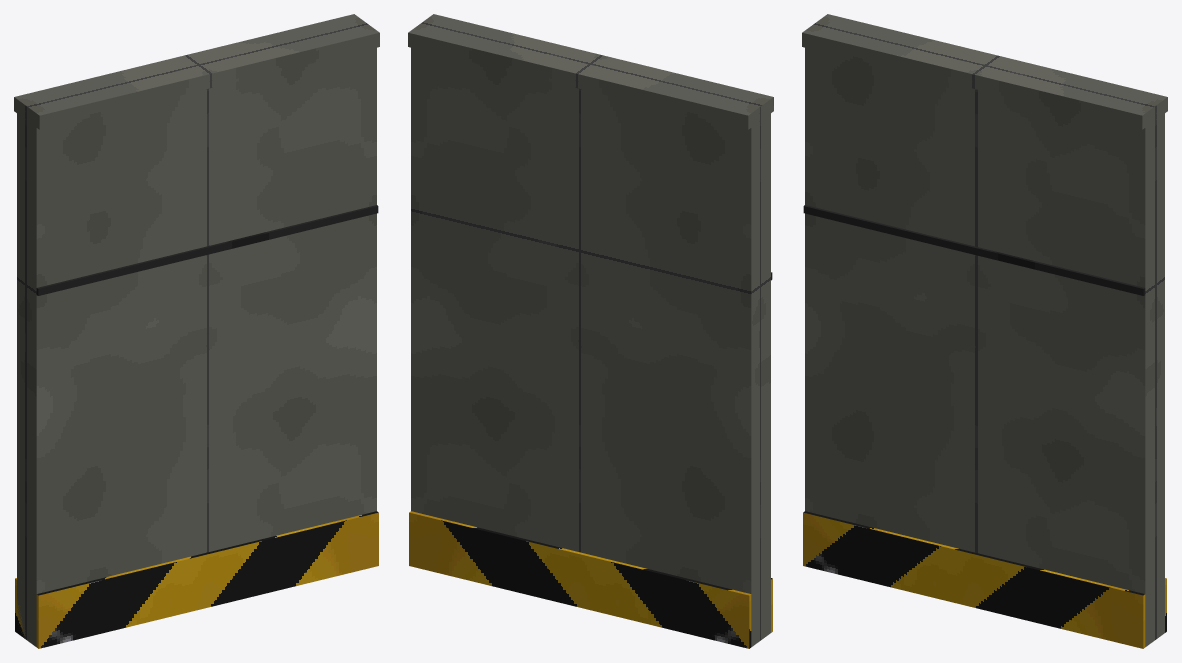
The model's file is SM_Wall_Plain.glb.
The picture shows the model from 3 angles, left to right: view 1: azimuth 30°, elevation 25°; view 2: azimuth 150°, elevation 25°; view 3: azimuth 330°, elevation 25°; orthographic projection.
Parts seen in each view (by area): view 1: SM_Wall_Plain; view 2: SM_Wall_Plain; view 3: SM_Wall_Plain.
Boxes of the visible parts, x1=… form: SM_Wall_Plain: x1=14, y1=14, x2=379, y2=648; SM_Wall_Plain: x1=408, y1=14, x2=773, y2=648; SM_Wall_Plain: x1=802, y1=14, x2=1167, y2=648.
Size of the model in its own units: 2 by 3 by 0.26.
Materials: 3 (3 with a texture image).
